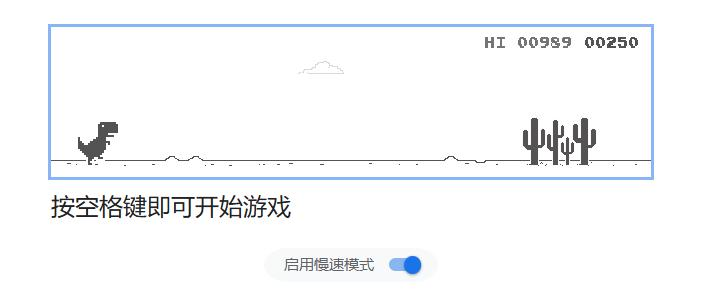cactus: (522, 117, 598, 168)
dino: (76, 120, 121, 167)
